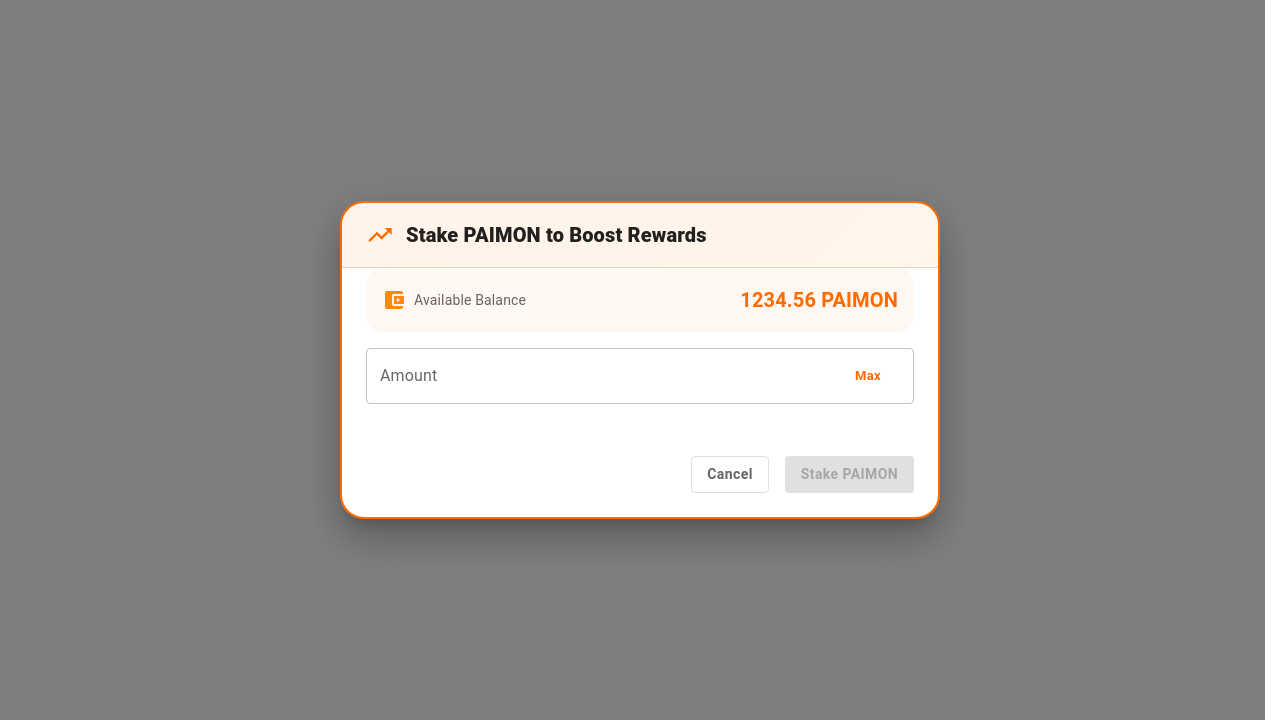
Scenario: BoostStakeModal Component › Functional: Modal Interactions › has "Max" button to fill balance
What coordinates should you click on to do the following:
click the button "Max"
I would click on:
 (868, 376)
Its box is top-left (836, 361), bottom-right (900, 392).
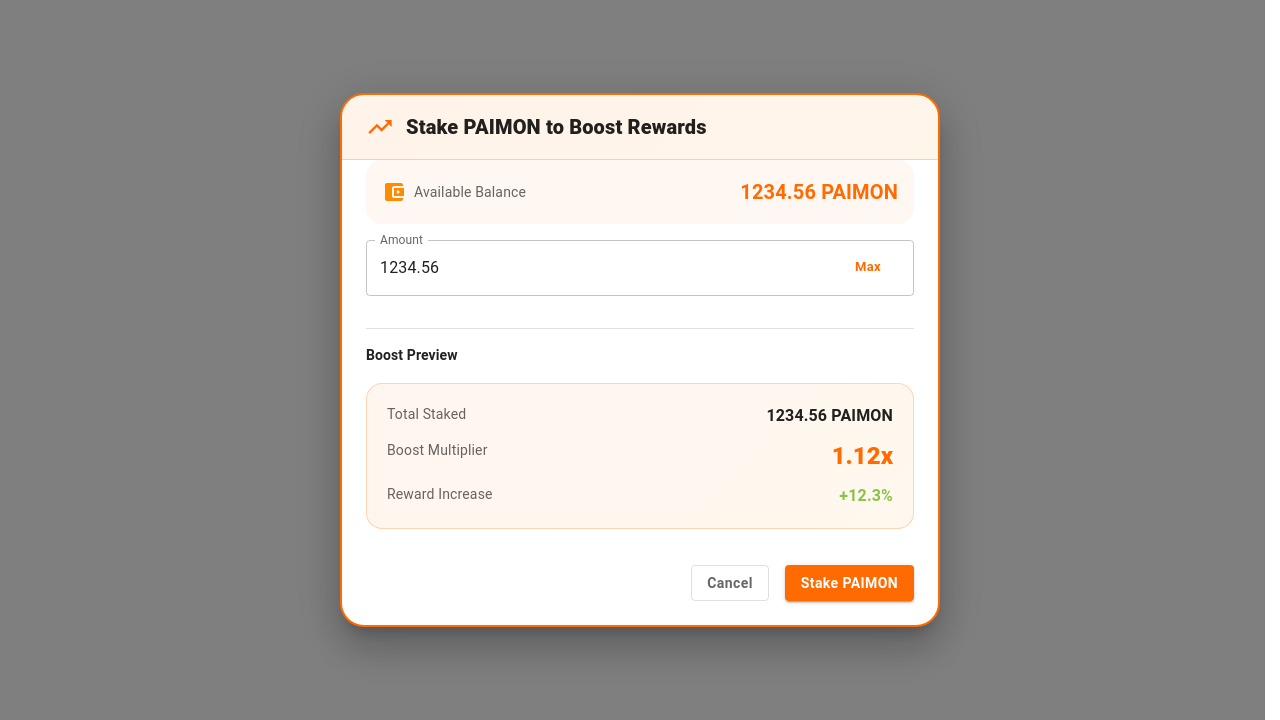
Result: the field labelled "Amount" holds "1234.56" at top-left (366, 240), bottom-right (828, 296)
